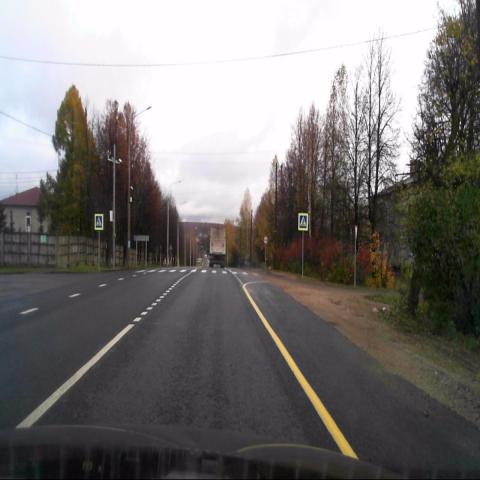5_19_1: (298, 213, 308, 230), (95, 214, 103, 230)
